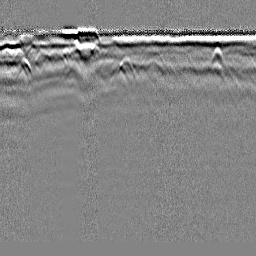cavity: (116, 55, 137, 80)
